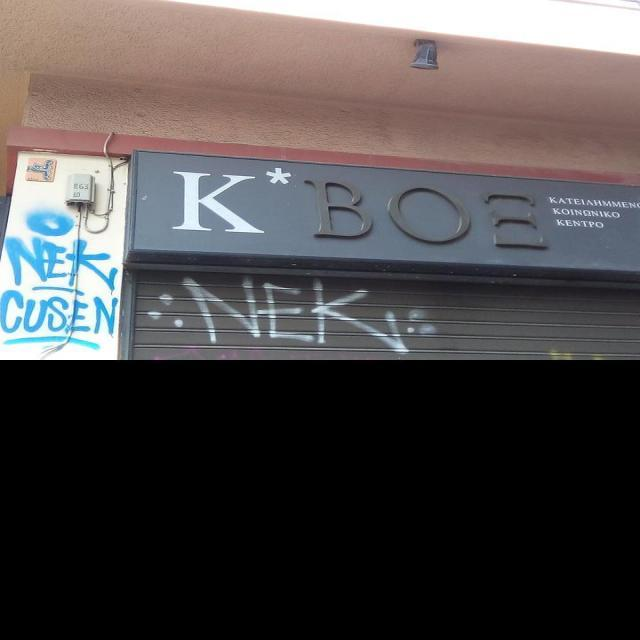nonspitting: (148, 276, 437, 352), (2, 208, 118, 348)
